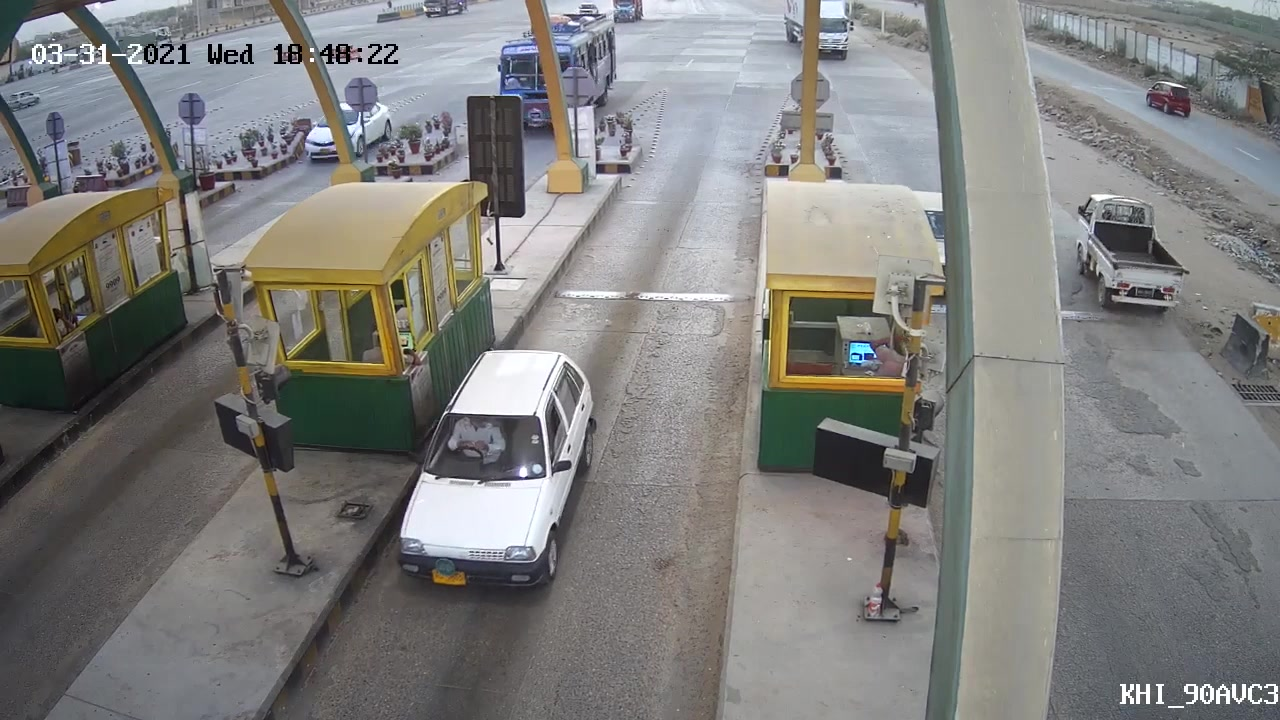F1: (384, 338, 610, 598)
